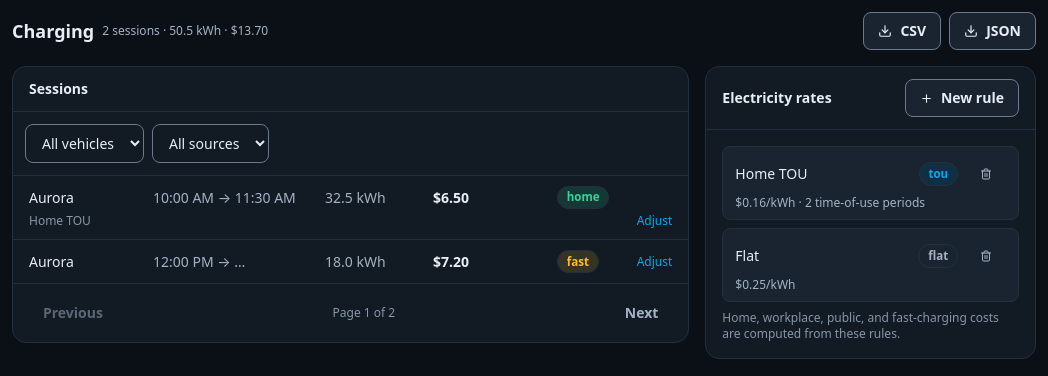
Test case: ChargingPage › paginates through charging sessions
Check: the text "Page 1 of 2" is shown, box x1=332 y1=305 x2=395 y2=321
Click the button "Next" at (642, 313), box x1=611 y1=294 x2=672 y2=332
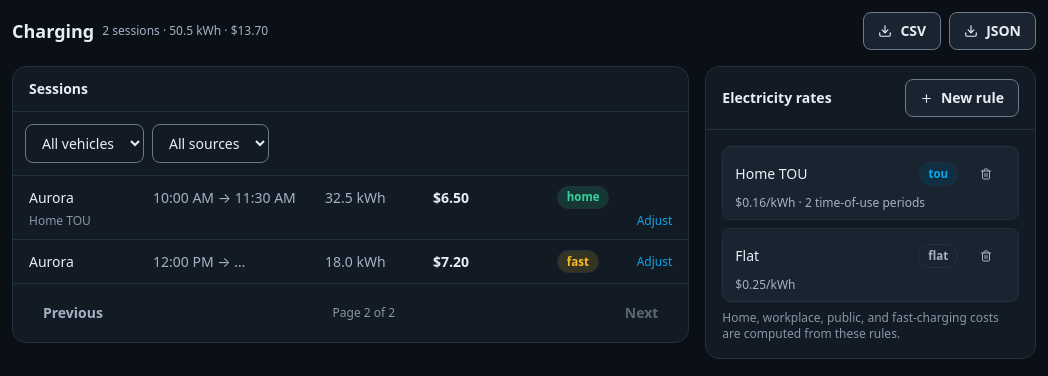
Check: the text "Page 2 of 2" is shown, box x1=332 y1=305 x2=395 y2=321
Click the button "Previous" at (73, 313), box x1=29 y1=294 x2=117 y2=332
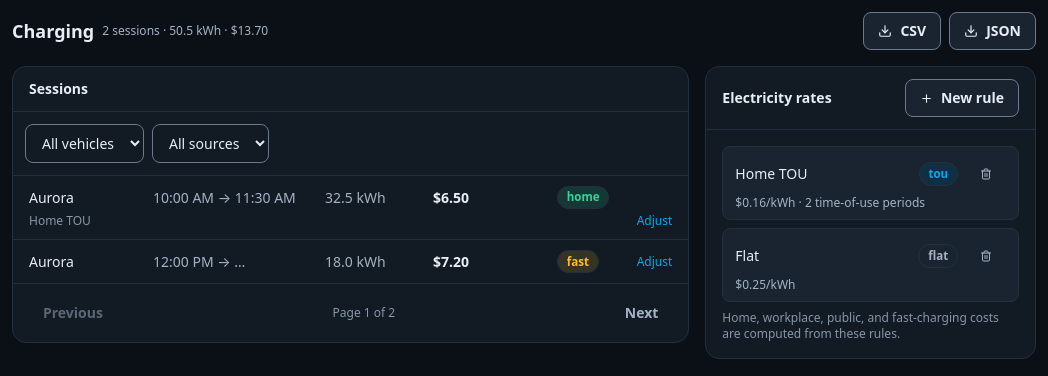
Check: the text "Page 1 of 2" is shown, box x1=332 y1=305 x2=395 y2=321
